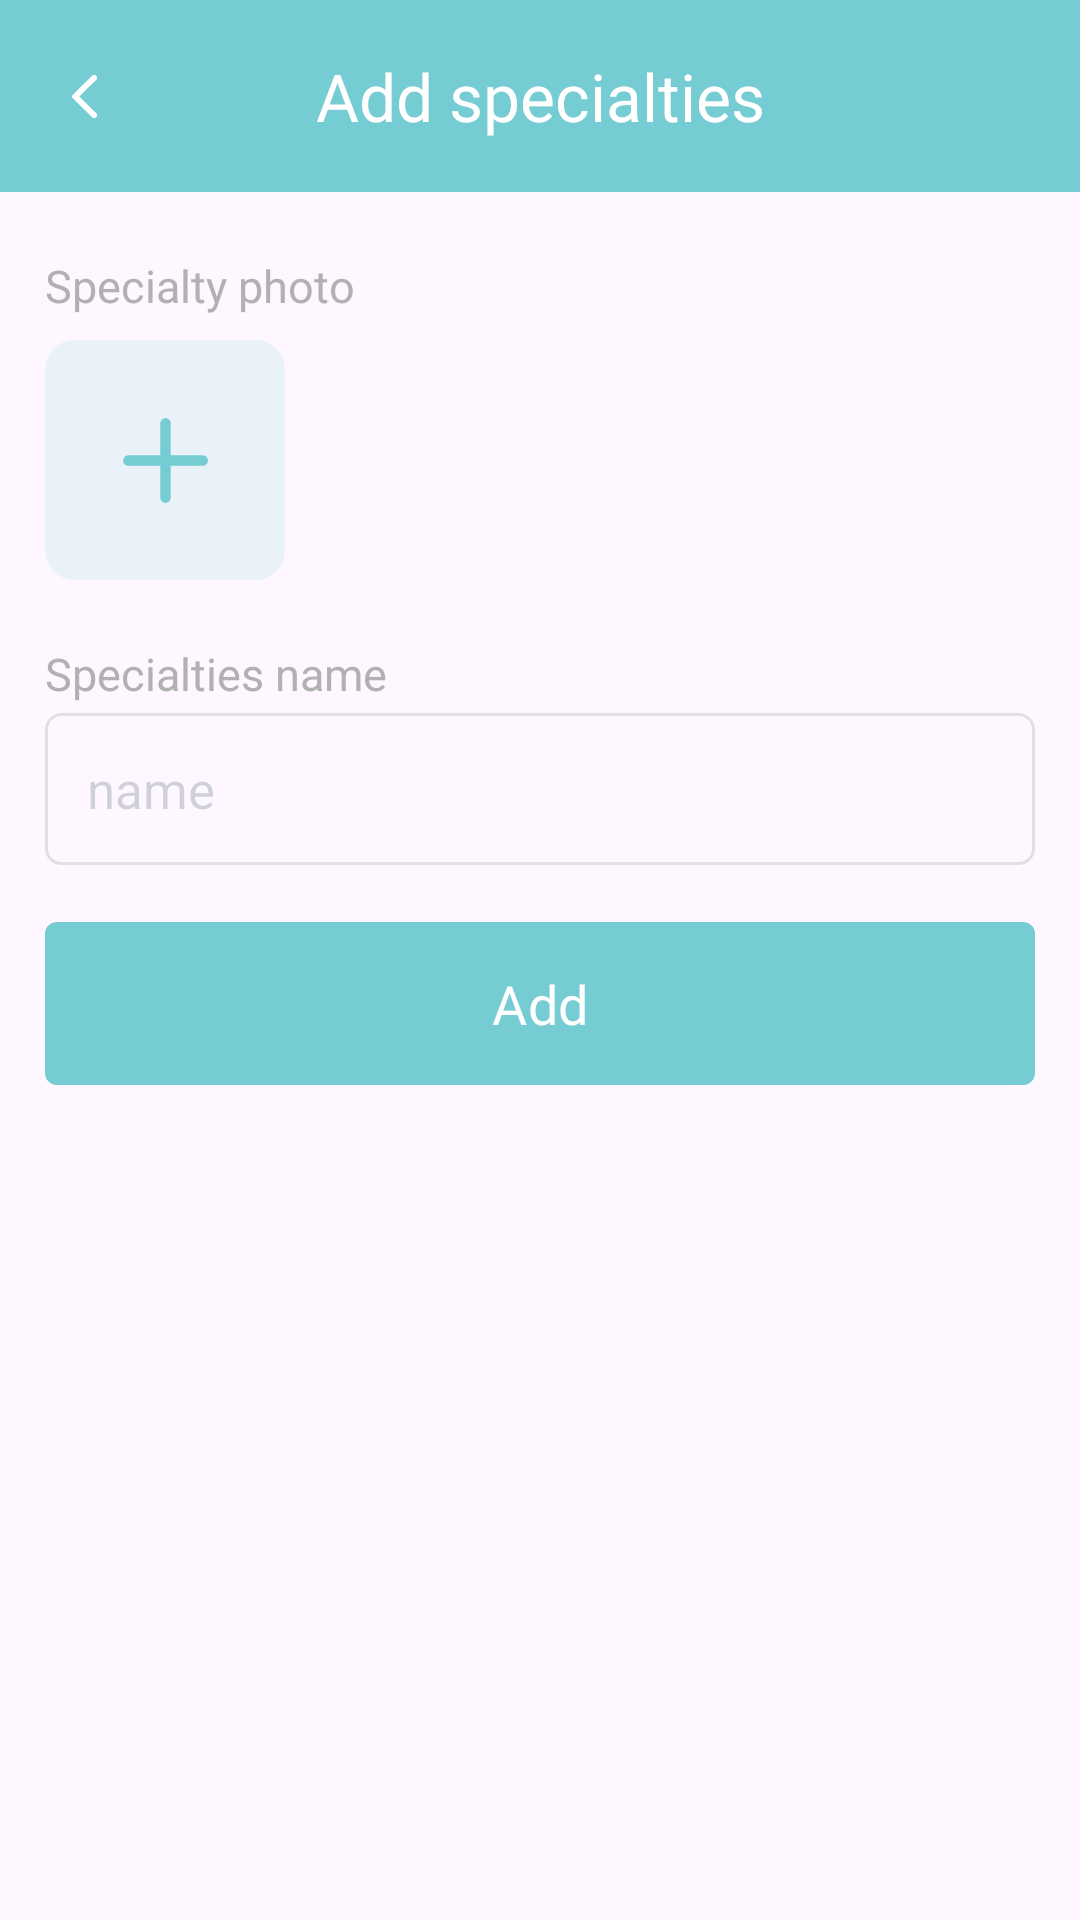

Icons on this 1080px x 1920px Android screen, each with the point to tap as point (x, y):
add: point (165, 460)
